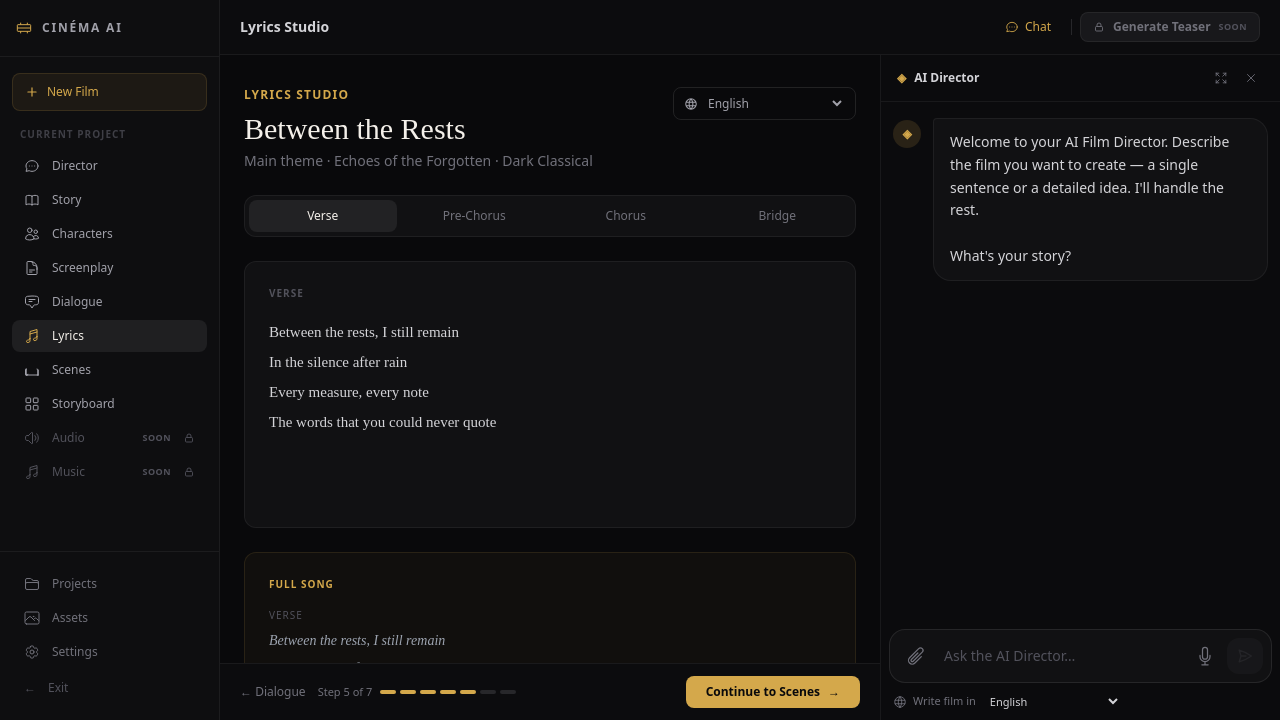
Test: every section can be edited › lyrics: typed changes show Save lyrics, and Undo puts the song back
In the text box named "Verse lyrics": (550, 407) x1=269 y1=317 x2=831 y2=497, type " la la"
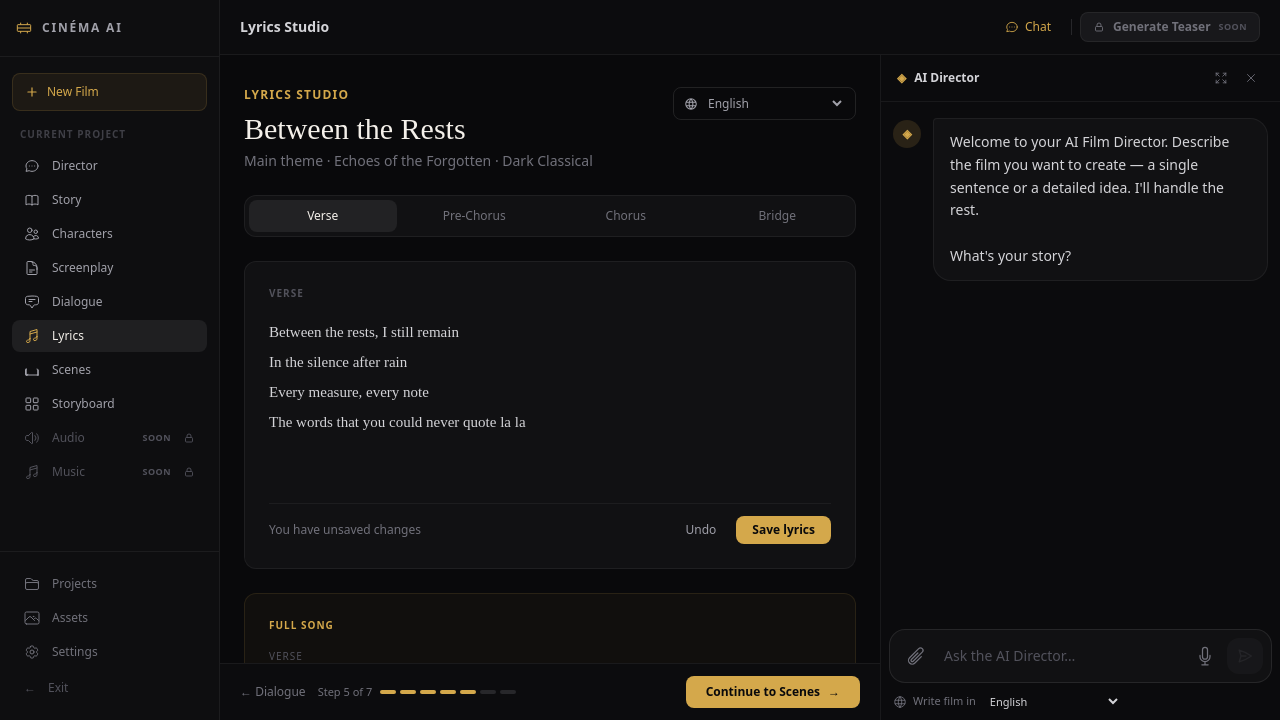
Now the element with test id "lyrics-unsaved" is shown, box x1=269 y1=503 x2=831 y2=544
Click the button "Undo": (701, 530) x1=674 y1=516 x2=728 y2=544
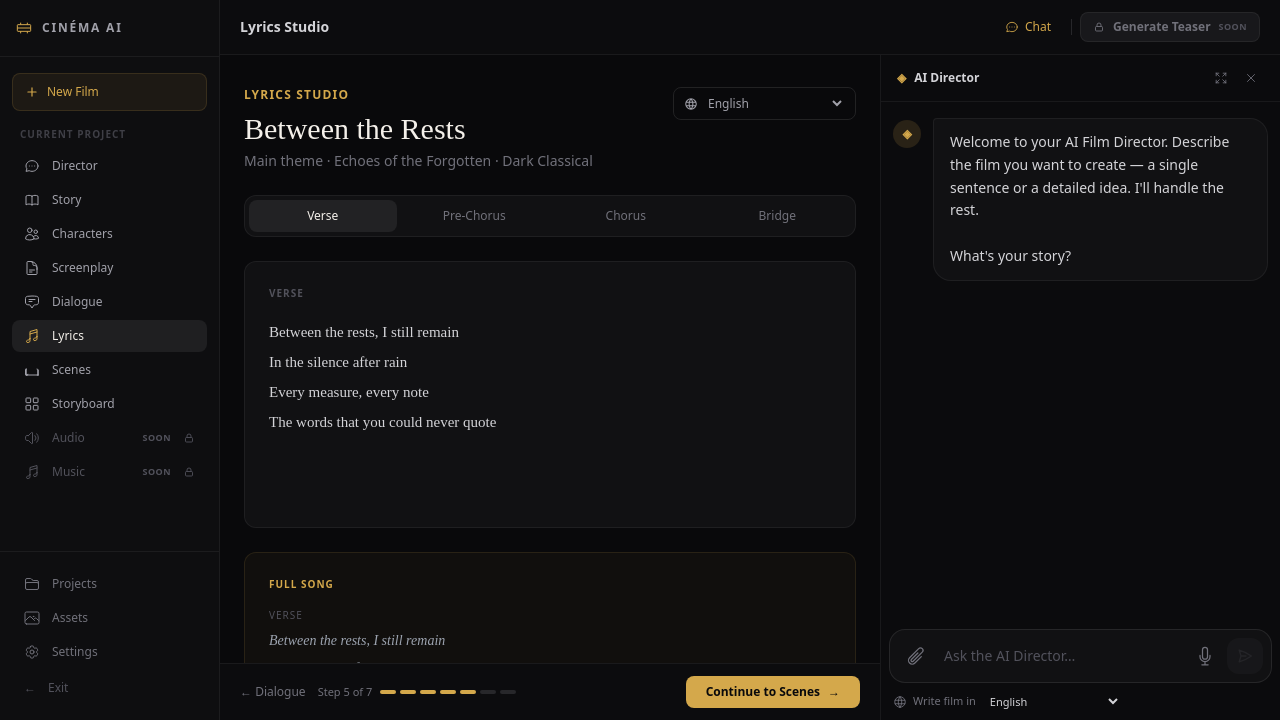
Now the text box named "Verse lyrics" holds "Between the rests, I still remain In the silence after rain Every measure, every note The words that you could never quote", box x1=269 y1=317 x2=831 y2=497
Now the element with test id "lyrics-unsaved" is gone
